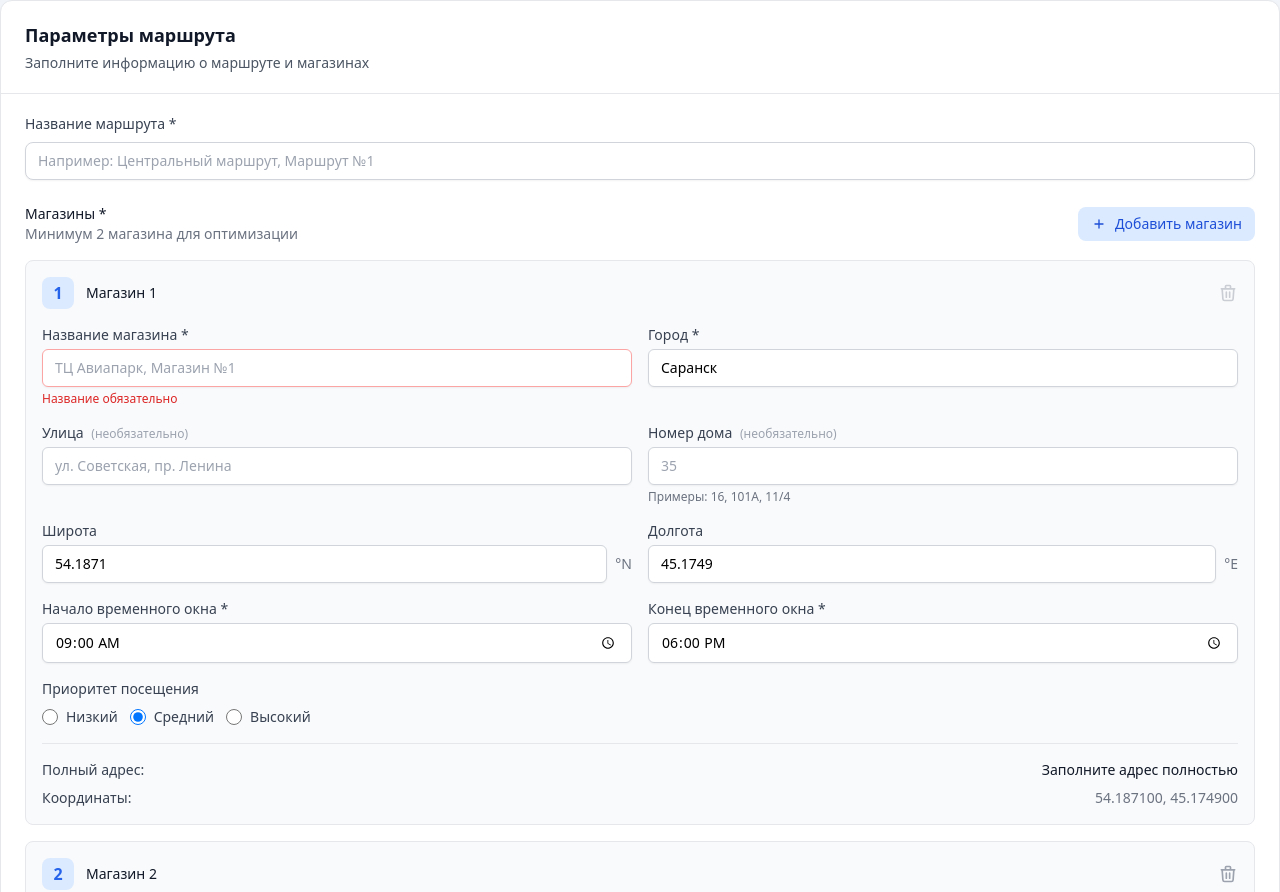
Test: OptimizationForm.vue › adds a new location when add button is clicked
Step 1. Click the button "Добавить магазин" → {"x": 1166, "y": 224}, box x1=1078 y1=207 x2=1255 y2=241
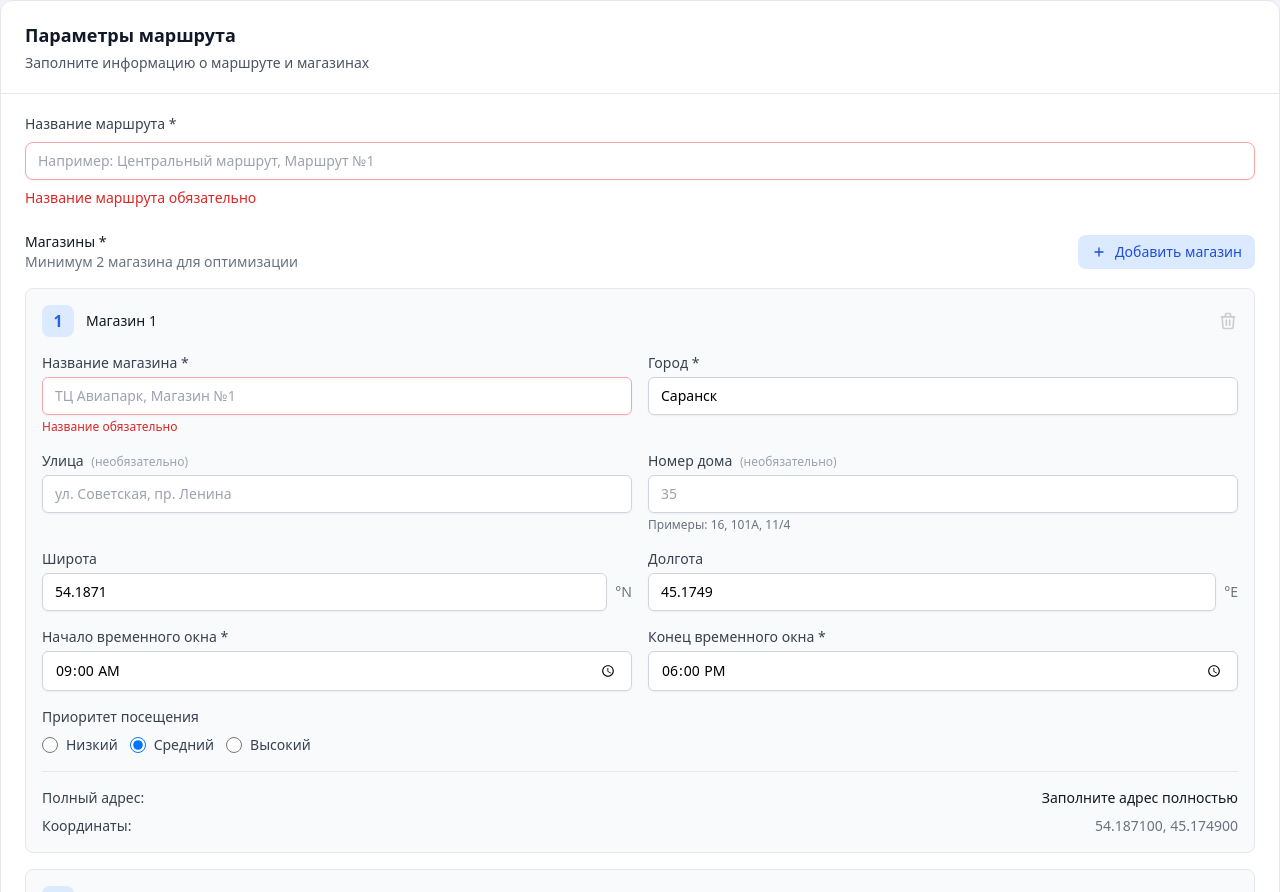
Expected: the number of "LocationInput" components is 3
